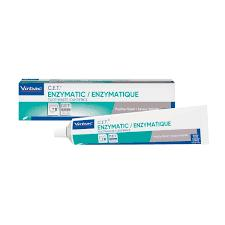toothpaste: (48, 109, 218, 151)
